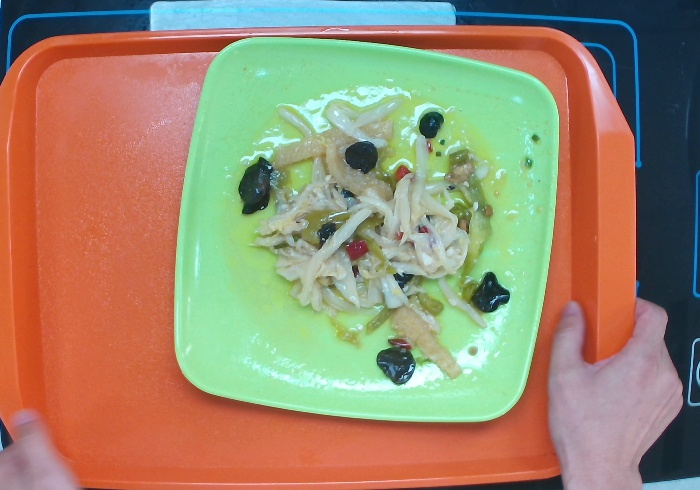ZNLD-Lv_Fang_Pan: (171, 31, 570, 433)
